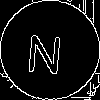N: (25, 25, 65, 75)
